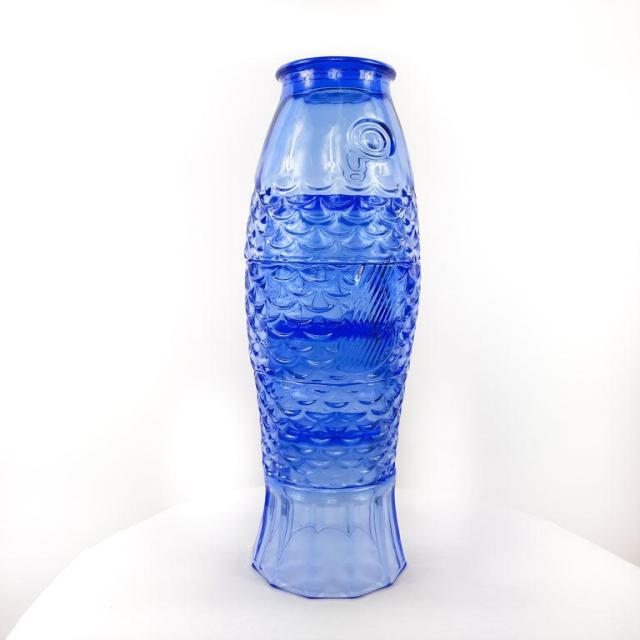bottle: (229, 49, 434, 609)
